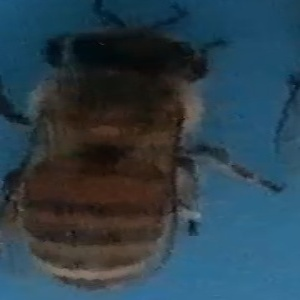bee: (2, 2, 275, 292)
